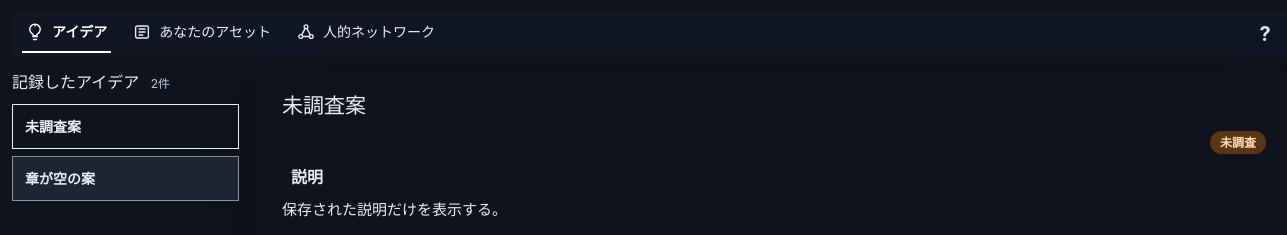
Test: shows a draft description without generating empty chapter headings
Expected: the number of elements with class "local-home__idea-reading-section" is 1, [282, 167, 507, 219]
Expected: the heading "説明" is shown, [291, 167, 323, 187]
Click the button "章が空の案" at point(126, 178), box [13, 157, 238, 200]
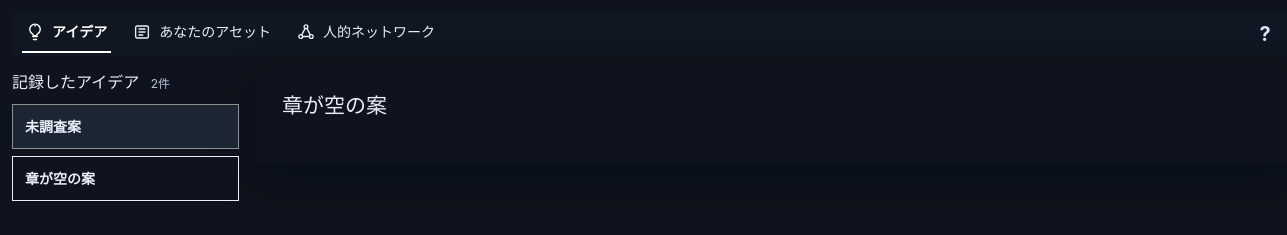
Expected: the element with class "local-home__idea-content" is gone
Expected: no elements with class "local-home__idea-reading-section" are shown
